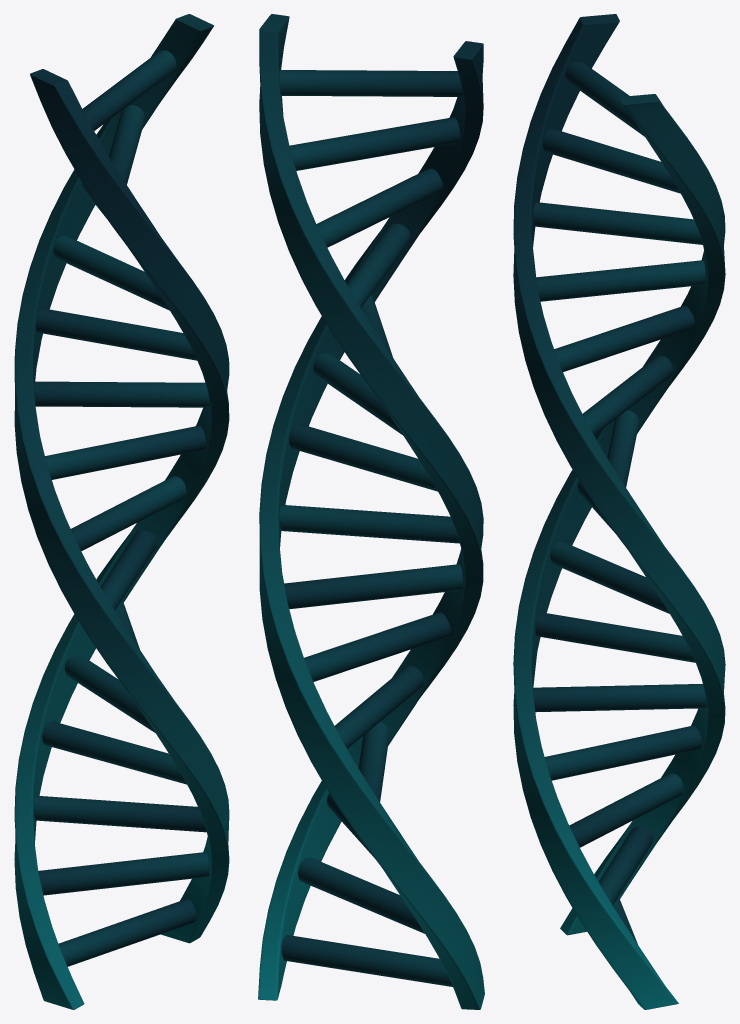
File: ADN.glb
3 views of the same model, side by side, from view 1: azimuth 30°, elevation 25°; view 2: azimuth 150°, elevation 25°; view 3: azimuth 270°, elevation 25° (orthographic). The views are drawn at different scales.
Visible parts, largest first — view 1: node_id45; view 2: node_id45; view 3: node_id45.
Part boxes in pixels (bbox=[...]): node_id45: bbox=[14, 14, 229, 1009]; node_id45: bbox=[258, 14, 484, 1009]; node_id45: bbox=[513, 14, 725, 1009].
Bounding box in the file's own units: 0.2221 × 1.04 × 0.2196.
Materials: 1 (1 with a texture image).
